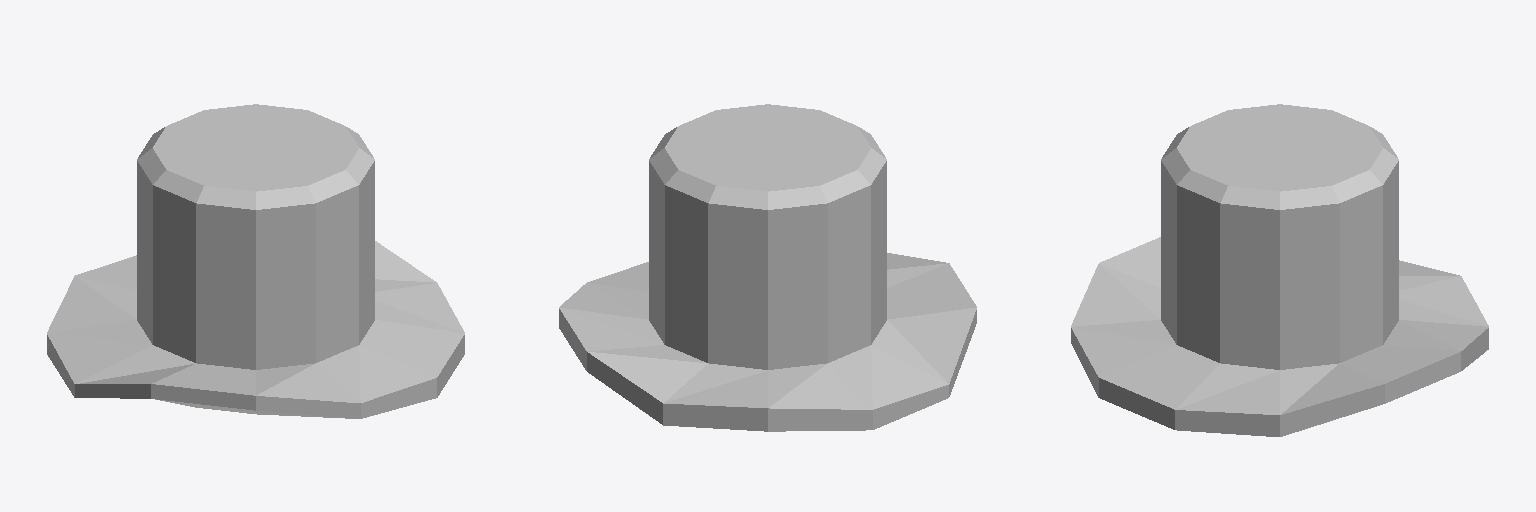
File: CylinderHat.obj
3 renders of one model, left to right at view 1: azimuth 30°, elevation 25°; view 2: azimuth 150°, elevation 25°; view 3: azimuth 270°, elevation 25°, orthographic.
Visible parts, largest first — view 1: Cube_Cube.001; view 2: Cube_Cube.001; view 3: Cube_Cube.001.
Boxes of the visible parts, box(x1,y1,x2,y2) form: Cube_Cube.001: box(47, 104, 464, 418); Cube_Cube.001: box(559, 104, 976, 431); Cube_Cube.001: box(1071, 104, 1488, 436).
Size of the model in its own units: 3.51 by 2 by 3.51.